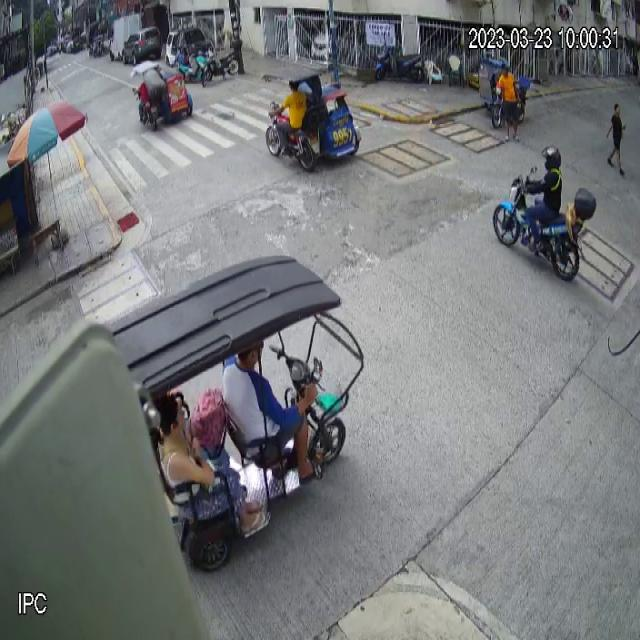Motorcycle: (492, 164, 598, 284)
Tricycle: (260, 62, 363, 170)
